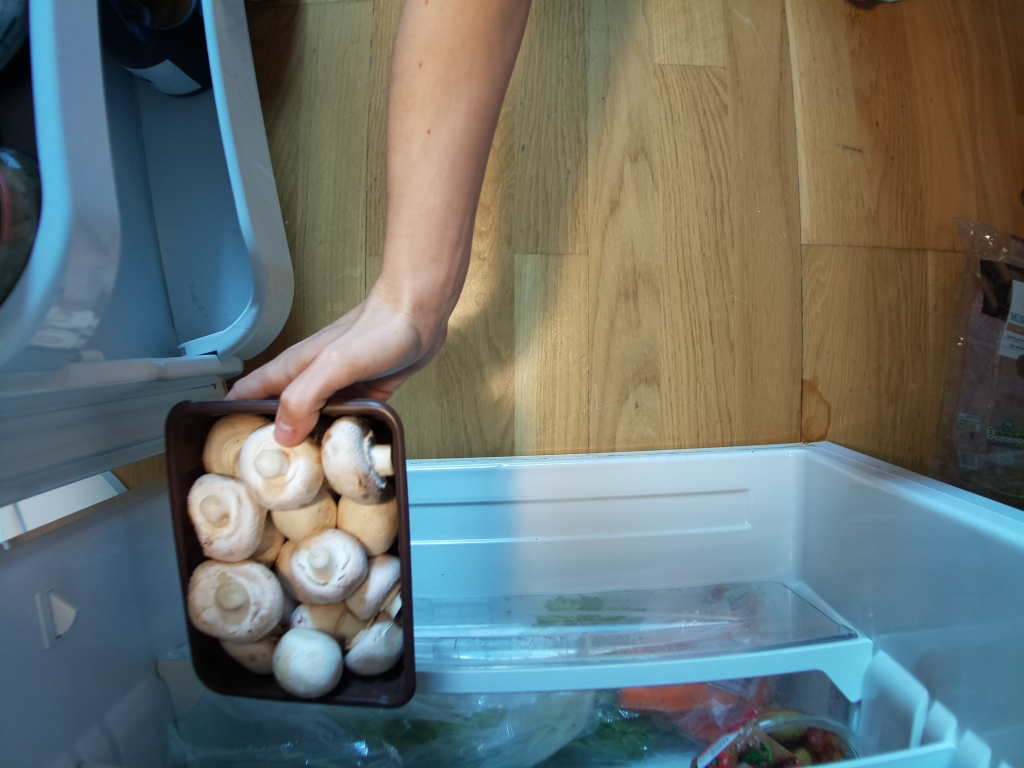mushrooms: (159, 390, 429, 718)
